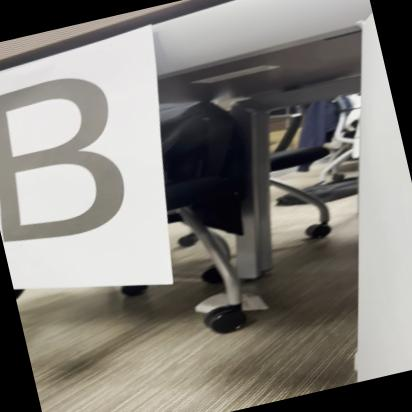seat: (0, 67, 144, 254)
